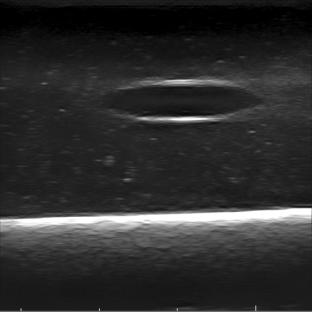vessel: (105, 79, 261, 125)
